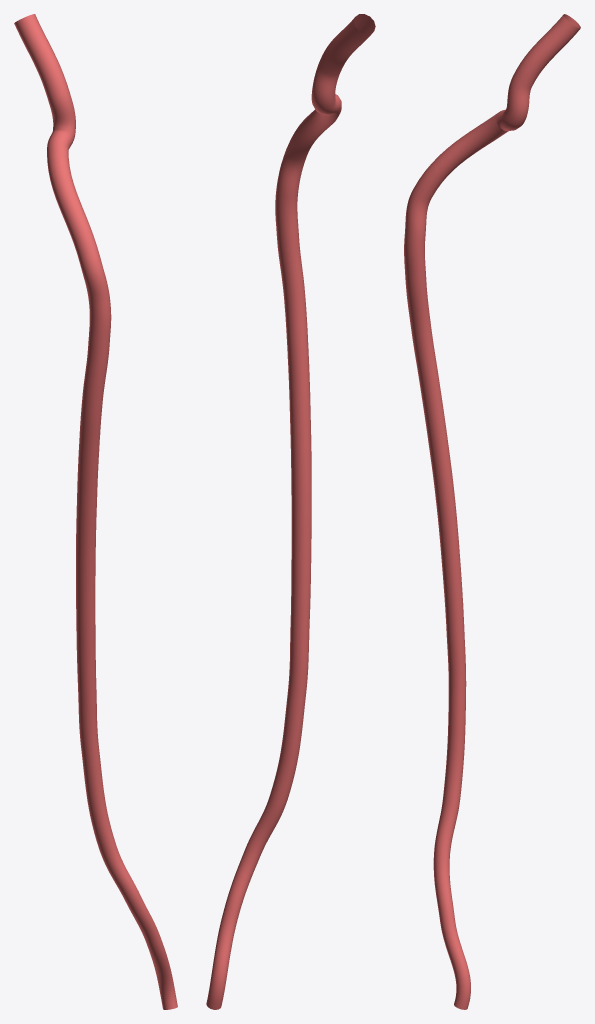
The model's file is Anterior_tibial_artery.r_BezierCurve.174.glb.
The picture shows the model from 3 angles, left to right: view 1: azimuth 30°, elevation 25°; view 2: azimuth 210°, elevation 25°; view 3: azimuth 270°, elevation 25°; orthographic projection. The views are drawn at different scales.
Parts seen in each view (by area): view 1: Anterior_tibial_artery.r_BezierCurve.174; view 2: Anterior_tibial_artery.r_BezierCurve.174; view 3: Anterior_tibial_artery.r_BezierCurve.174.
Boxes of the visible parts, <box> form: Anterior_tibial_artery.r_BezierCurve.174: <box>14,14,177,1009</box>; Anterior_tibial_artery.r_BezierCurve.174: <box>206,14,375,1009</box>; Anterior_tibial_artery.r_BezierCurve.174: <box>404,14,580,1009</box>.
Bounding box in the file's own units: 0.0412 × 0.3276 × 0.0552.
